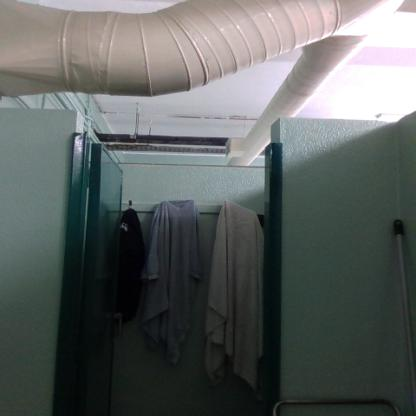open: (66, 113, 292, 409)
